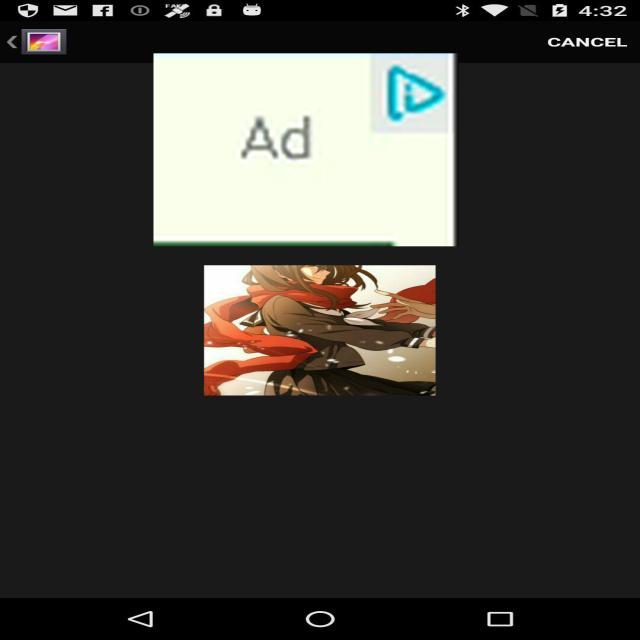sneaking: (154, 54, 458, 246)
